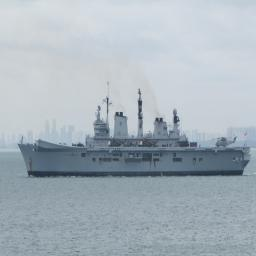Portanaves: (18, 78, 252, 180)
